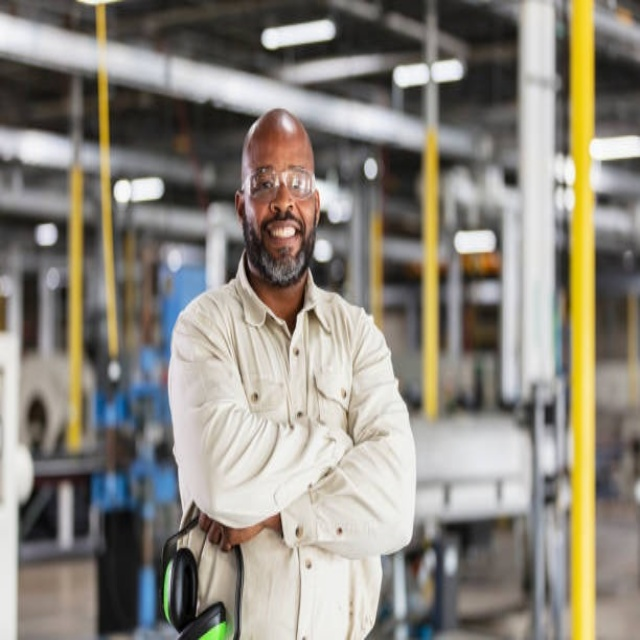Gafas: (242, 164, 318, 201)
Sin_mascara: (262, 212, 303, 261)
